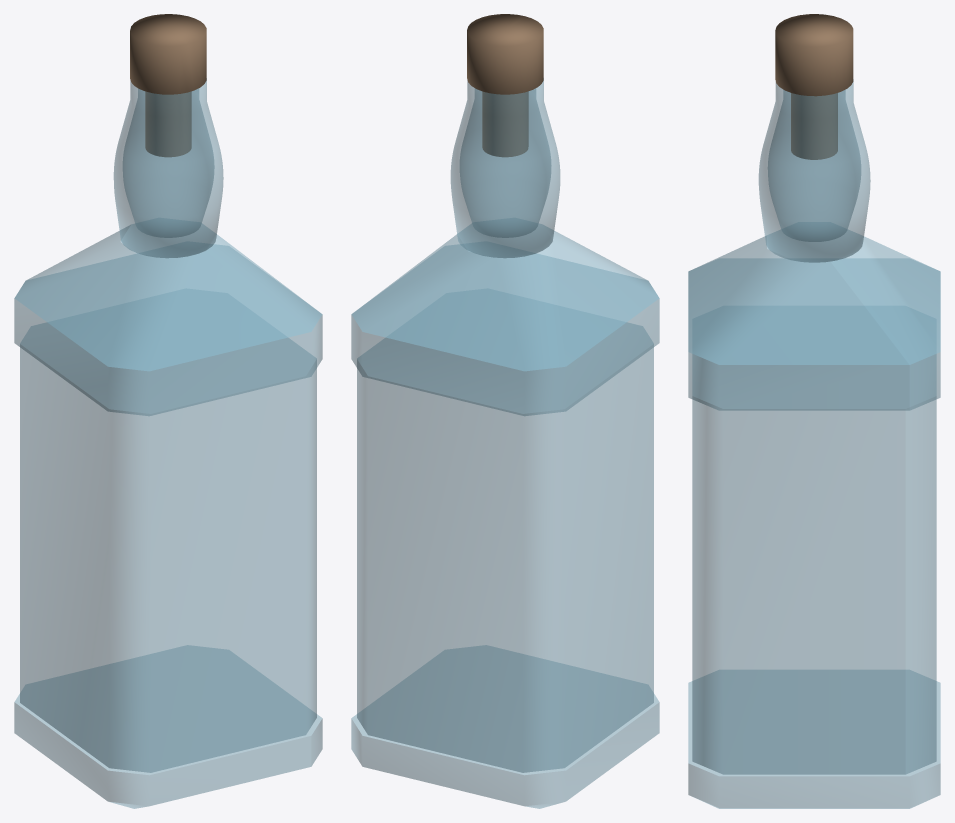
File: Bottles.glb
3 views of the same model, side by side, from view 1: azimuth 30°, elevation 25°; view 2: azimuth 150°, elevation 25°; view 3: azimuth 270°, elevation 25° (orthographic).
Parts seen in each view (by area): view 1: Cube (×4), Cylindrical Lathe (×2); view 2: Cube (×4), Cylindrical Lathe (×2); view 3: Cube (×4), Cylindrical Lathe (×2).
Part boxes in pixels (x1,y1,x2,y2): Cube (×4): (14,223,322,808); Cylindrical Lathe (×2): (113,14,223,258); Cube (×4): (351,223,659,808); Cylindrical Lathe (×2): (450,14,560,258); Cube (×4): (688,230,940,808); Cylindrical Lathe (×2): (758,14,870,262).
Size of the model in its own units: 0.0814 by 0.2625 by 0.0814.
